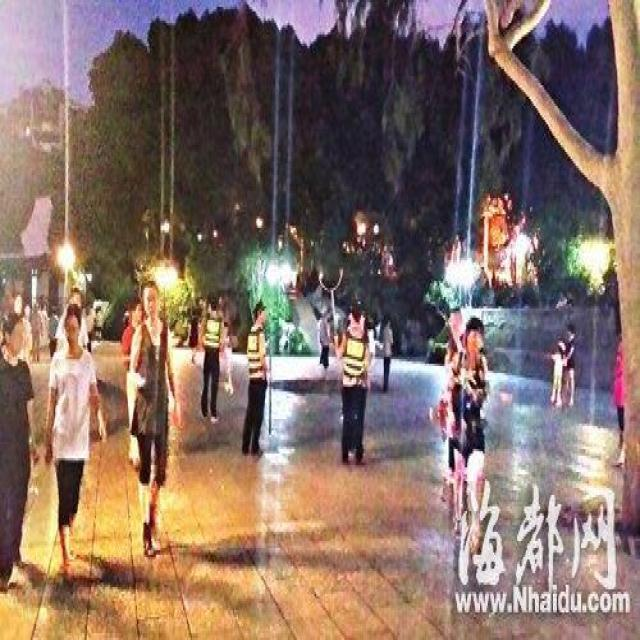non-fight: (43, 303, 106, 577), (121, 280, 180, 568), (0, 307, 38, 594), (446, 314, 489, 548), (332, 298, 370, 465), (242, 300, 270, 455), (200, 293, 226, 424), (611, 333, 626, 464), (561, 324, 577, 409), (550, 339, 566, 406), (380, 314, 393, 392), (318, 309, 331, 378)
